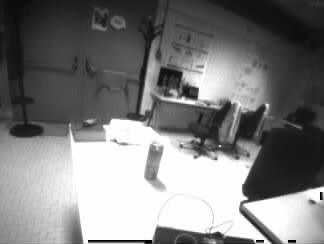Tin can: (143, 142, 163, 178)
